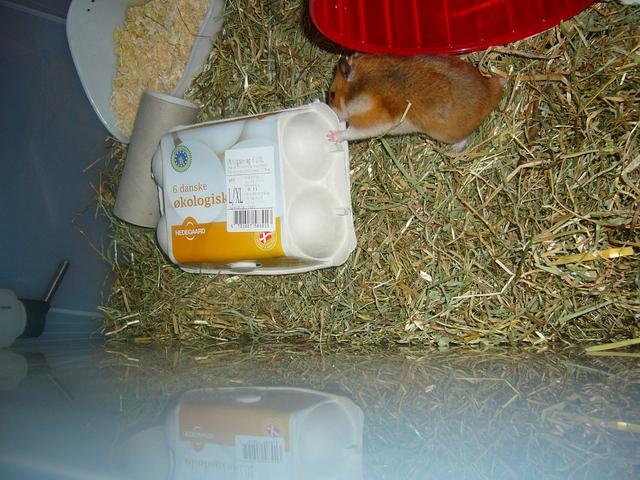mouse: (301, 34, 540, 159)
